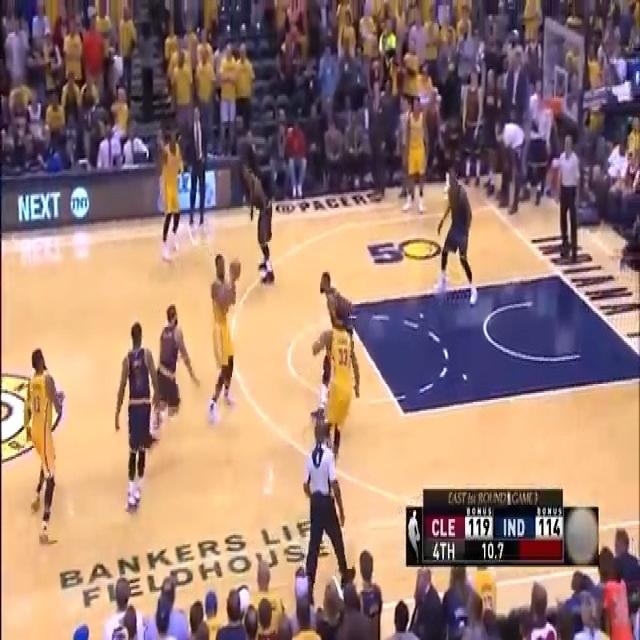basketball: (230, 258, 241, 280)
hoop: (534, 96, 558, 142)
